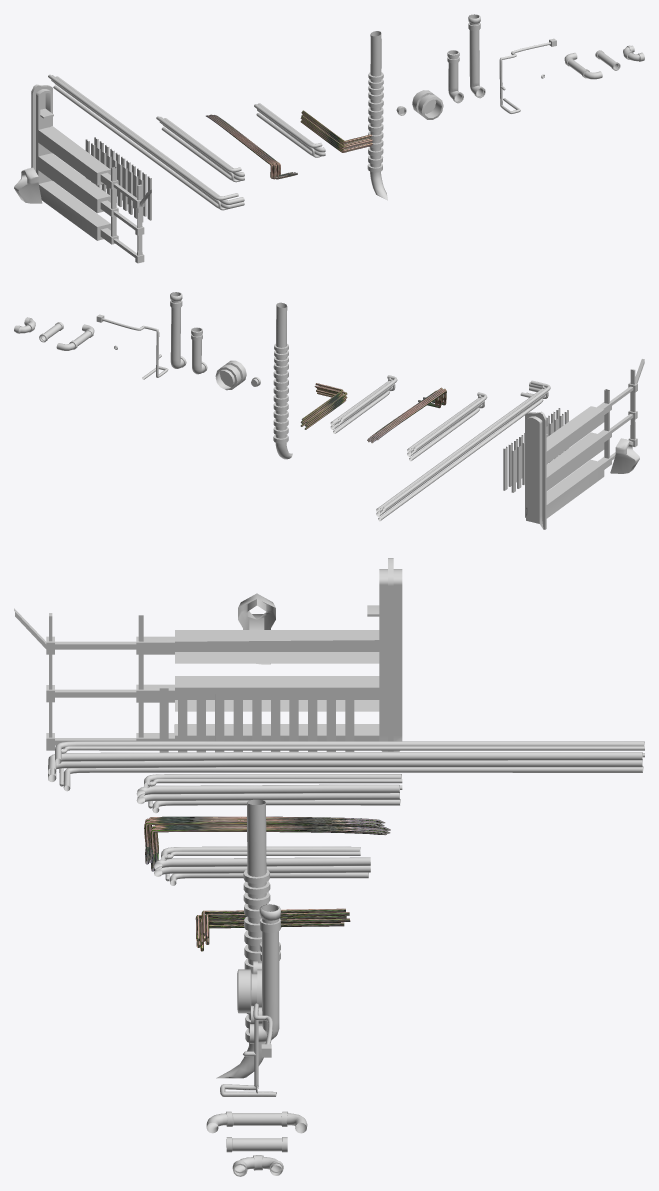
The model's file is Assets Atlas.fbx.
3 views of the same model, one above another, from view 1: azimuth 30°, elevation 25°; view 2: azimuth 150°, elevation 25°; view 3: azimuth 270°, elevation 25° (orthographic). The views are drawn at different scales.
Visible parts, largest first — view 1: Elemento del escenario 1, Tuberías largas, Escaleras, Columnas, Tuberías medianas 2, Tuberías pequeñas 2, Tuberías pequeñas 1, Tuberíia movil 2, Tuberías medianas 1, Elemento del escenario 2, Salida de tubería grande, Tubería móvil 1 (+2 smaller); view 2: Elemento del escenario 1, Tuberías largas, Escaleras, Columnas, Tuberías medianas 2, Tuberías pequeñas 2, Tuberías pequeñas 1, Tuberíia movil 2, Tuberías medianas 1, Elemento del escenario 2, Salida de tubería grande, Tubería móvil 1 (+2 smaller); view 3: Elemento del escenario 1, Tuberías largas, Tuberías medianas 2, Columnas, Tuberías pequeñas 2, Escaleras, Tuberías medianas 1, Tuberíia movil 2, Tuberías pequeñas 1, Tubería plataforma estática larga 1, Tubería para valvula 1, Elemento del escenario 2 (+2 smaller).
Boxes of the visible parts, bbox=[...] form: Elemento del escenario 1: bbox=[31, 84, 151, 263]; Tuberías largas: bbox=[48, 74, 244, 210]; Escaleras: bbox=[367, 31, 387, 200]; Columnas: bbox=[85, 137, 151, 222]; Tuberías medianas 2: bbox=[156, 116, 244, 182]; Tuberías pequeñas 2: bbox=[254, 103, 325, 157]; Tuberías pequeñas 1: bbox=[300, 110, 372, 152]; Tuberíia movil 2: bbox=[468, 14, 485, 98]; Tuberías medianas 1: bbox=[206, 114, 297, 179]; Elemento del escenario 2: bbox=[14, 167, 42, 203]; Salida de tubería grande: bbox=[412, 90, 443, 119]; Tubería móvil 1: bbox=[447, 50, 463, 103]; Elemento del escenario 1: bbox=[525, 359, 644, 529]; Tuberías largas: bbox=[376, 380, 550, 521]; Escaleras: bbox=[273, 302, 292, 459]; Columnas: bbox=[503, 408, 568, 492]; Tuberías medianas 2: bbox=[407, 392, 487, 461]; Tuberías pequeñas 2: bbox=[330, 375, 397, 433]; Tuberías pequeñas 1: bbox=[300, 383, 347, 429]; Tuberíia movil 2: bbox=[170, 292, 186, 368]; Tuberías medianas 1: bbox=[367, 387, 446, 443]; Elemento del escenario 2: bbox=[610, 438, 639, 473]; Salida de tubería grande: bbox=[215, 360, 246, 390]; Tubería móvil 1: bbox=[191, 327, 207, 374]; Elemento del escenario 1: bbox=[14, 558, 402, 751]; Tuberías largas: bbox=[48, 741, 644, 791]; Tuberías medianas 2: bbox=[136, 774, 402, 813]; Columnas: bbox=[159, 688, 354, 752]; Tuberías pequeñas 2: bbox=[154, 846, 370, 885]; Escaleras: bbox=[216, 799, 270, 1078]; Tuberías medianas 1: bbox=[144, 816, 390, 871]; Tuberíia movil 2: bbox=[250, 904, 280, 1043]; Tuberías pequeñas 1: bbox=[195, 908, 350, 951]; Tubería plataforma estática larga 1: bbox=[206, 1111, 307, 1133]; Tubería para valvula 1: bbox=[220, 1003, 276, 1096]; Elemento del escenario 2: bbox=[238, 593, 275, 664].
Bounding box in the file's own units: 73.34 × 145 × 35.5.
